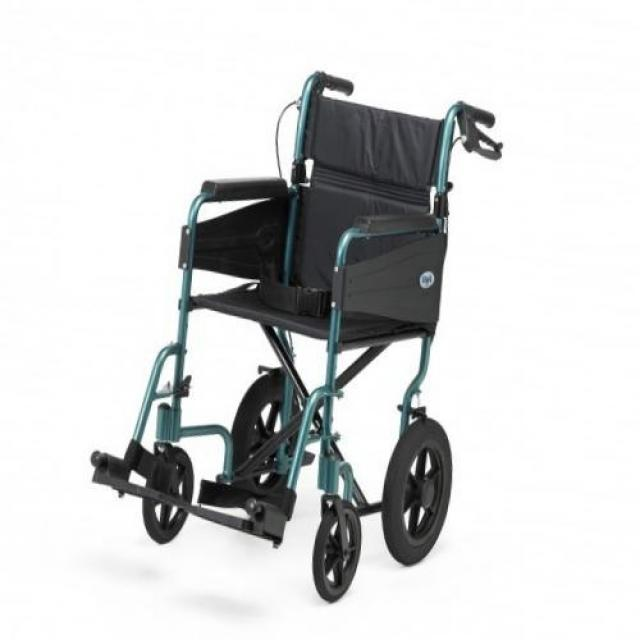wheelchair: (39, 40, 540, 627)
